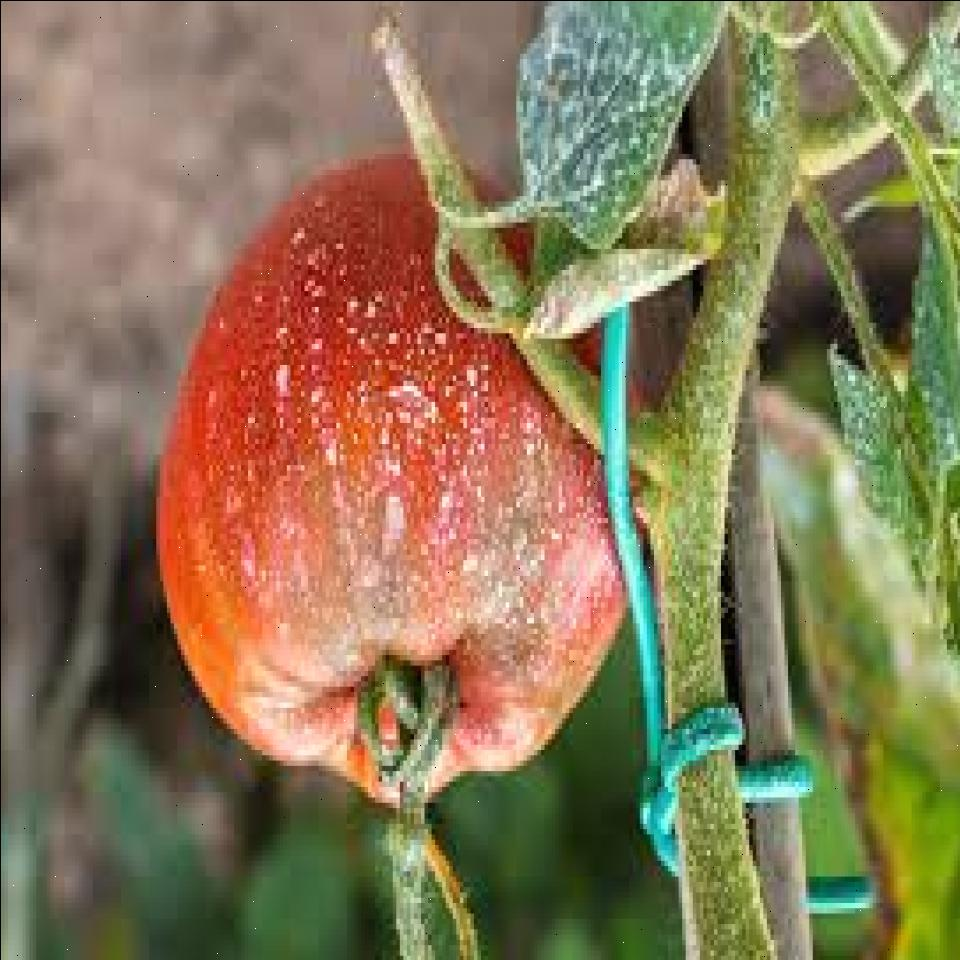Spotted wilt Virus: (151, 154, 638, 818)
